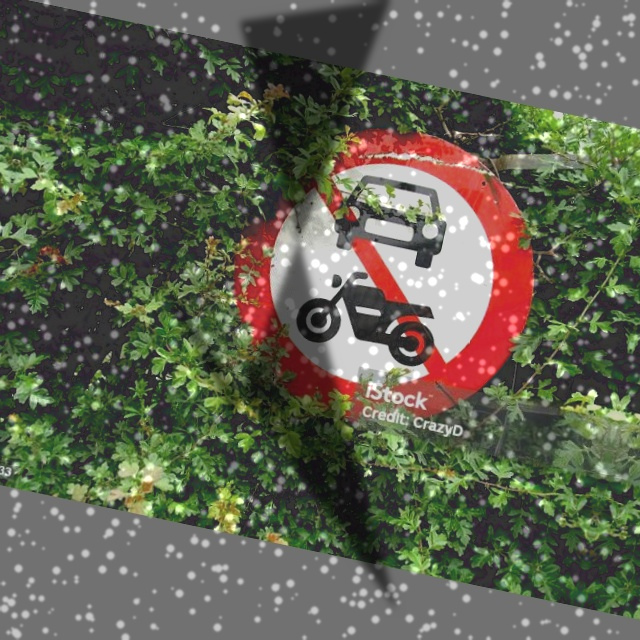All_Motor_Vehicles_Prohibited: (209, 102, 560, 455)
